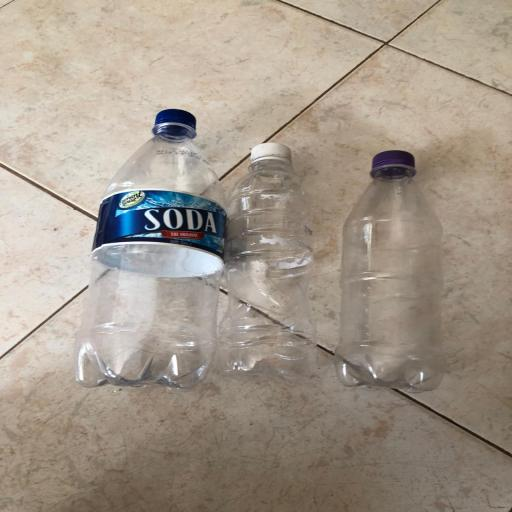waste: (75, 96, 224, 397), (336, 141, 451, 407), (216, 120, 328, 389)
